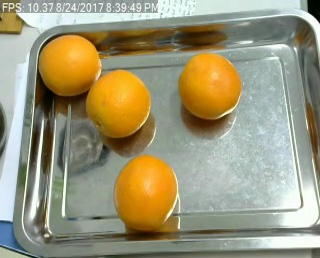Orange: (113, 155, 177, 230), (84, 69, 151, 137), (179, 53, 241, 119), (38, 34, 102, 94)
